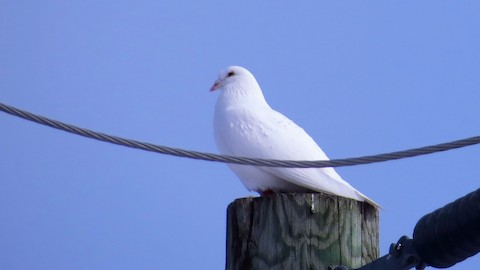pigeon: (205, 63, 383, 211)
